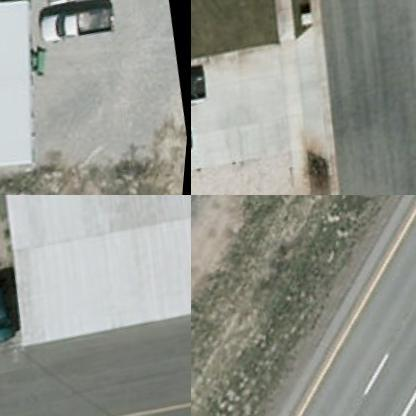car: (0, 277, 26, 345)
pickup: (33, 0, 121, 50), (191, 70, 209, 114)
